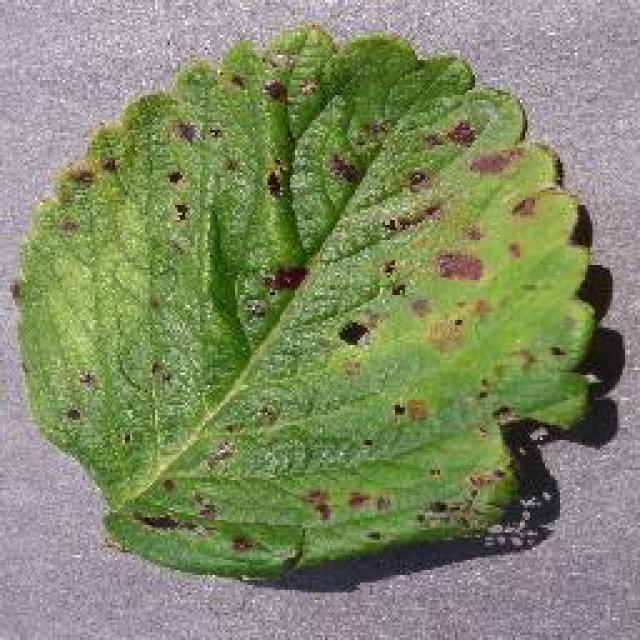Strawberry leaf scorch: (153, 70, 532, 497)
